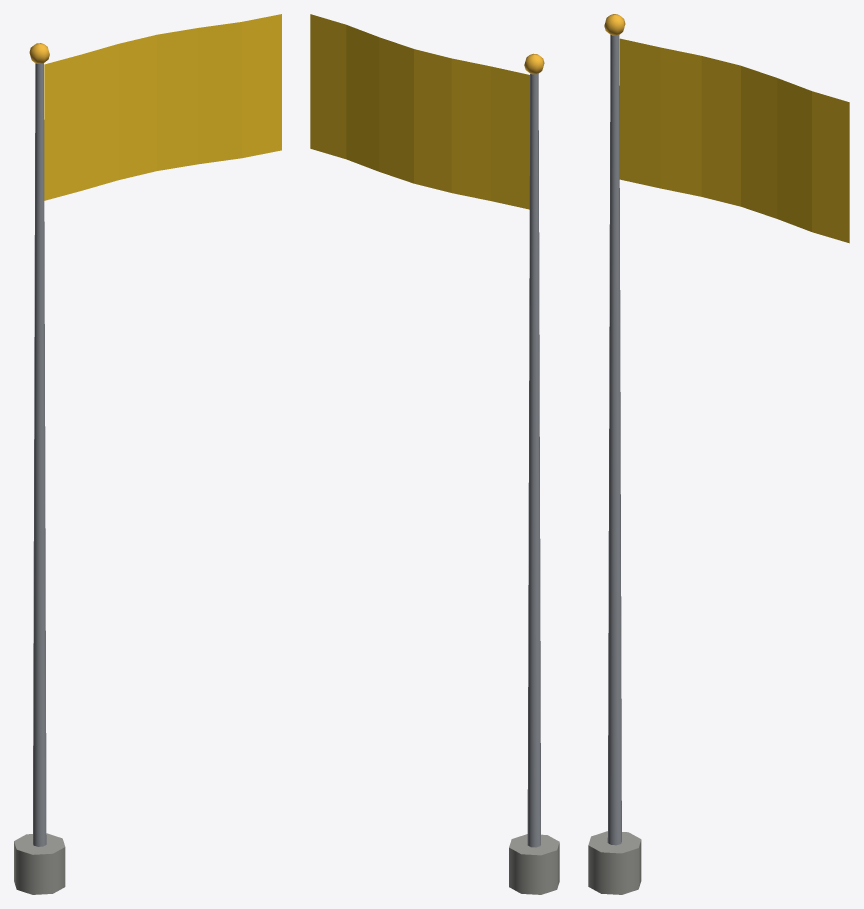
Rendered from SM_Flagpole_Yellow.fbx.
3 renders of one model, left to right at view 1: azimuth 30°, elevation 25°; view 2: azimuth 150°, elevation 25°; view 3: azimuth 330°, elevation 25°, orthographic. The views are drawn at different scales.
Visible parts, largest first — view 1: SM_Flagpole_Yellow; view 2: SM_Flagpole_Yellow; view 3: SM_Flagpole_Yellow.
Part boxes in pixels (x1,y1,x2,y2): SM_Flagpole_Yellow: [14, 14, 281, 894]; SM_Flagpole_Yellow: [310, 14, 559, 894]; SM_Flagpole_Yellow: [588, 14, 849, 894].
Size of what is drawn, in the model's own units: 3.36 by 10.47 by 0.6.
